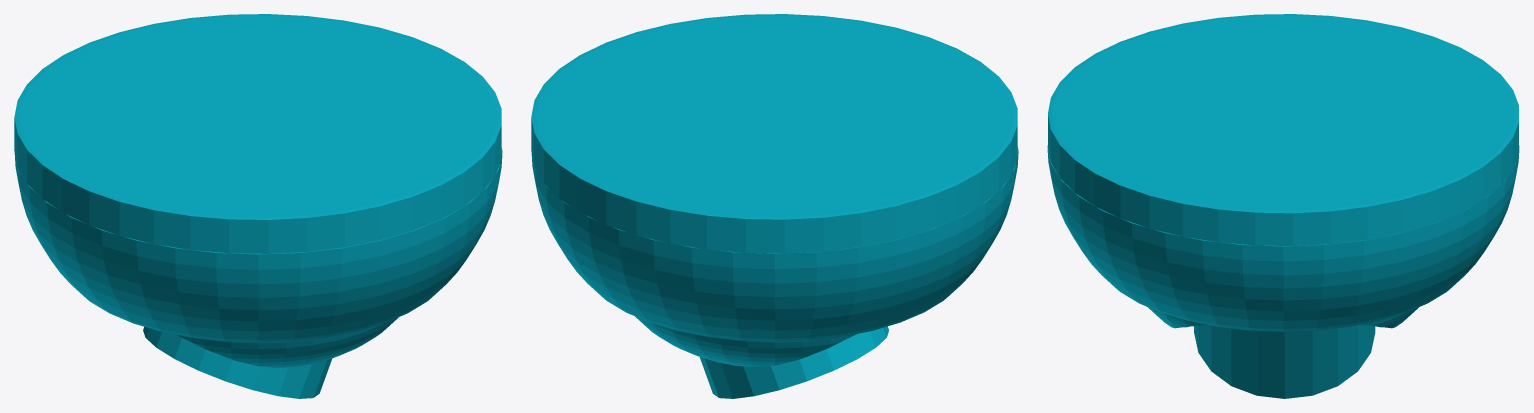
The model's file is Generic Indoor Dome Planned Camera - Blue.glb.
The picture shows the model from 3 angles, left to right: view 1: azimuth 30°, elevation 25°; view 2: azimuth 150°, elevation 25°; view 3: azimuth 270°, elevation 25°; orthographic projection. The views are drawn at different scales.
Parts seen in each view (by area): view 1: Mesh_Mesh_head_geo.001_lambert2SG.001; view 2: Mesh_Mesh_head_geo.001_lambert2SG.001; view 3: Mesh_Mesh_head_geo.001_lambert2SG.001.
Part boxes in pixels (x1,y1,x2,y2): Mesh_Mesh_head_geo.001_lambert2SG.001: [14, 14, 502, 398]; Mesh_Mesh_head_geo.001_lambert2SG.001: [531, 14, 1018, 398]; Mesh_Mesh_head_geo.001_lambert2SG.001: [1047, 14, 1519, 398].
Size of the model in its own units: 66.04 by 40.56 by 66.04.
